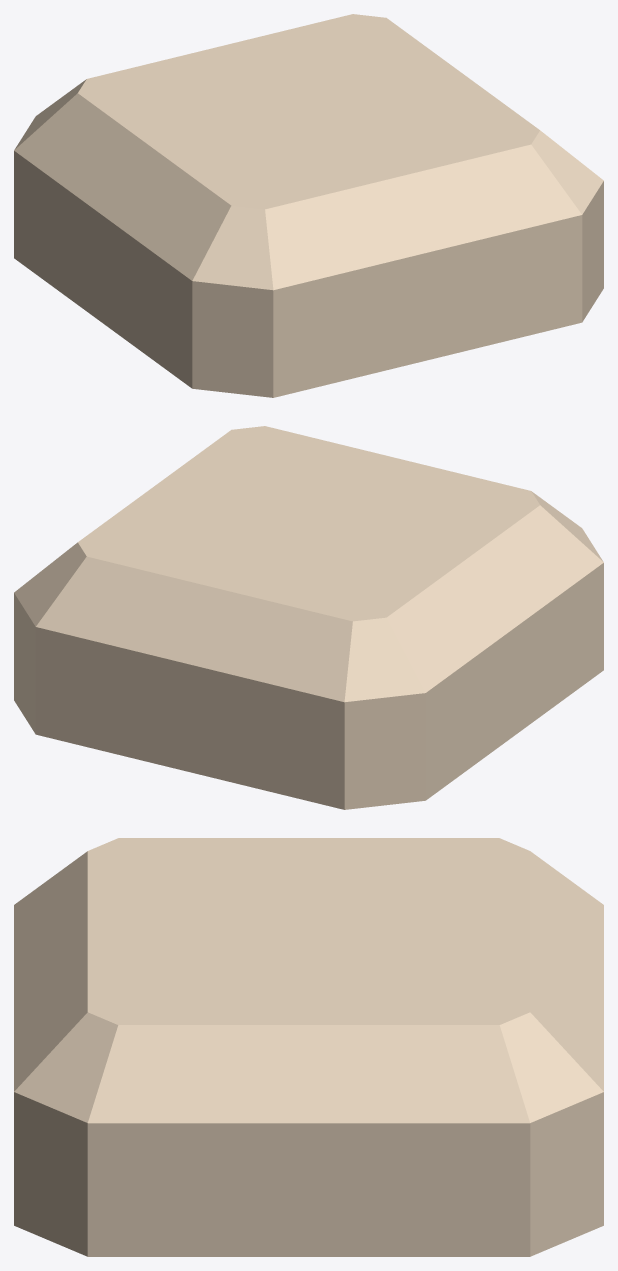
The model's file is Puzzle_Closed_Conduit_Terminator.glb.
3 renders of one model, top to bottom at view 1: azimuth 30°, elevation 25°; view 2: azimuth 150°, elevation 25°; view 3: azimuth 270°, elevation 25°, orthographic. The views are drawn at different scales.
Parts seen in each view (by area): view 1: Sandstone_4; view 2: Sandstone_4; view 3: Sandstone_4.
Boxes of the visible parts, left/top/right/bottom form: Sandstone_4: left=14, top=14, right=603, bottom=397; Sandstone_4: left=14, top=426, right=603, bottom=809; Sandstone_4: left=14, top=838, right=603, bottom=1256.
Size of the model in its own units: 0.2 by 0.075 by 0.2.
